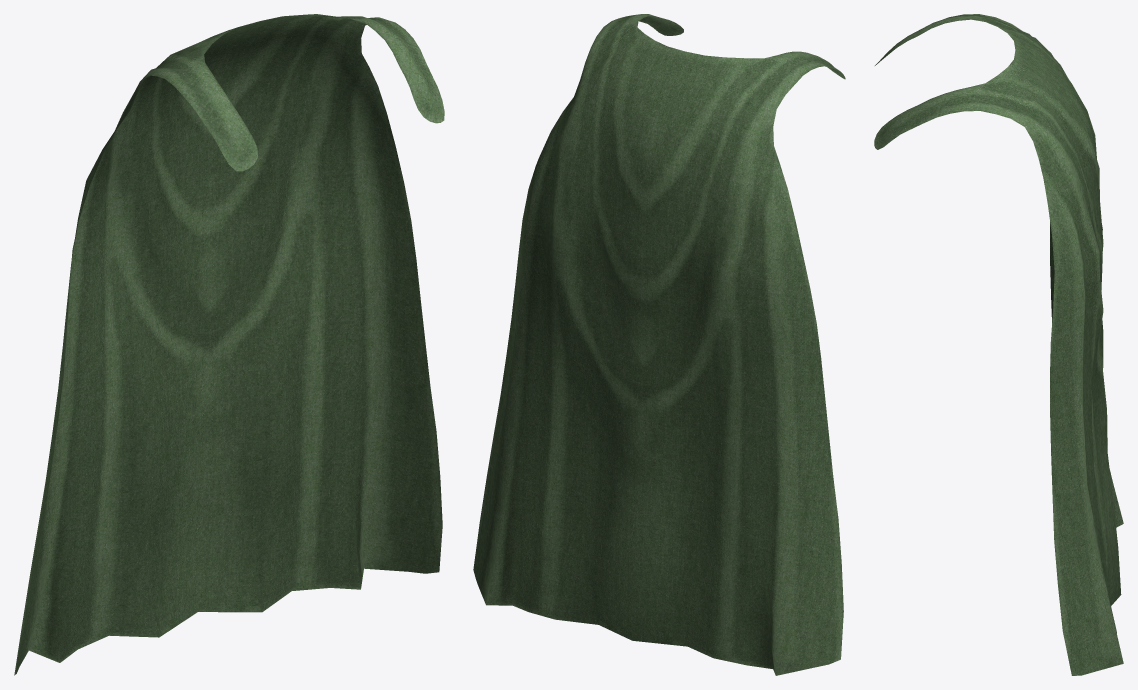
The model's file is clo_erkenbrand_shoulder.fbx.
The picture shows the model from 3 angles, left to right: view 1: azimuth 30°, elevation 25°; view 2: azimuth 150°, elevation 25°; view 3: azimuth 270°, elevation 25°; orthographic projection. The views are drawn at different scales.
Parts seen in each view (by area): view 1: clo_erkenbrand_shoulder; view 2: clo_erkenbrand_shoulder; view 3: clo_erkenbrand_shoulder.
Boxes of the visible parts, <box> form: clo_erkenbrand_shoulder: <box>14,14,444,675</box>; clo_erkenbrand_shoulder: <box>473,14,845,675</box>; clo_erkenbrand_shoulder: <box>874,14,1123,675</box>.
Size of the model in its own units: 0.5017 by 0.298 by 0.7233.
Materials: 1 (1 with a texture image).
